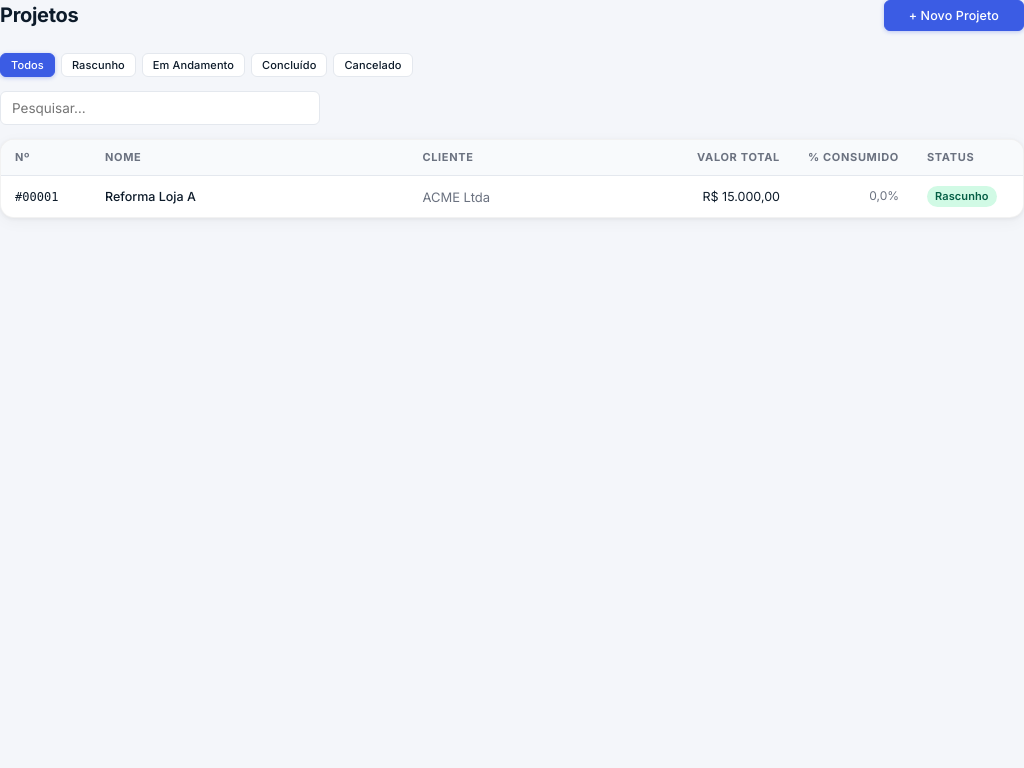
it: ProjectsPage — edição só em draft › projeto em andamento NÃO mostra o botão Editar, mostra Concluir/Cancelar
The width and height of the screenshot is (1024, 768).
Click the text "#00001".
click(19, 197)  # box x1=15 y1=190 x2=58 y2=204
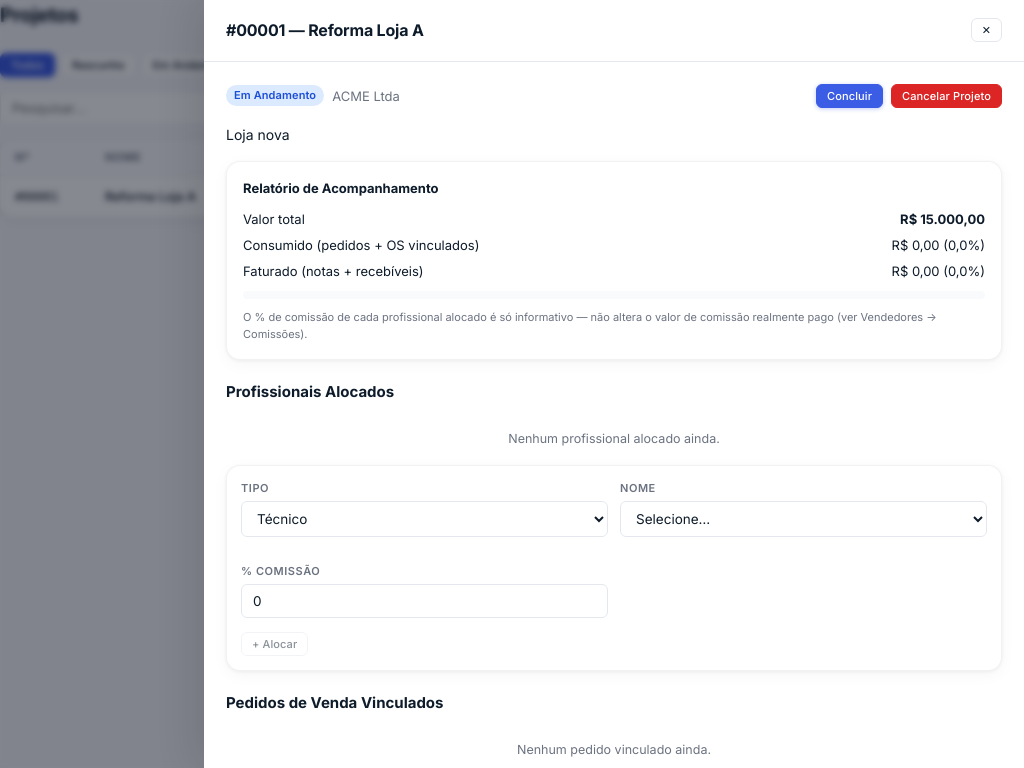
Check: the button "Concluir" is shown, box x1=816 y1=84 x2=883 y2=108
Check: the button "Cancelar Projeto" is shown, box x1=891 y1=84 x2=1002 y2=108
